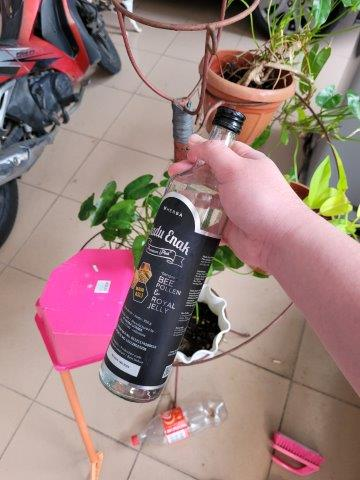botolkaca: (96, 107, 245, 404)
botolplastik: (133, 395, 228, 449)
